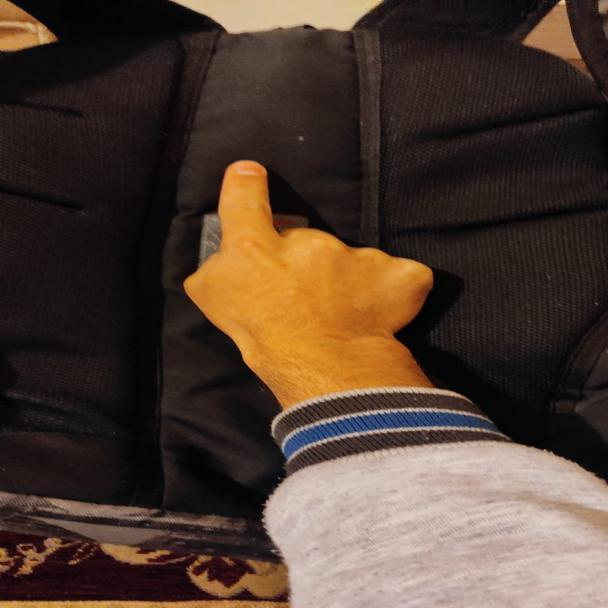one: (172, 156, 440, 369)
